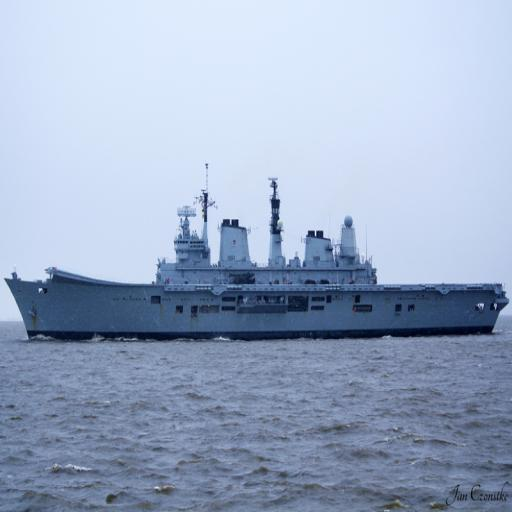Portanaves: (5, 160, 510, 345)
